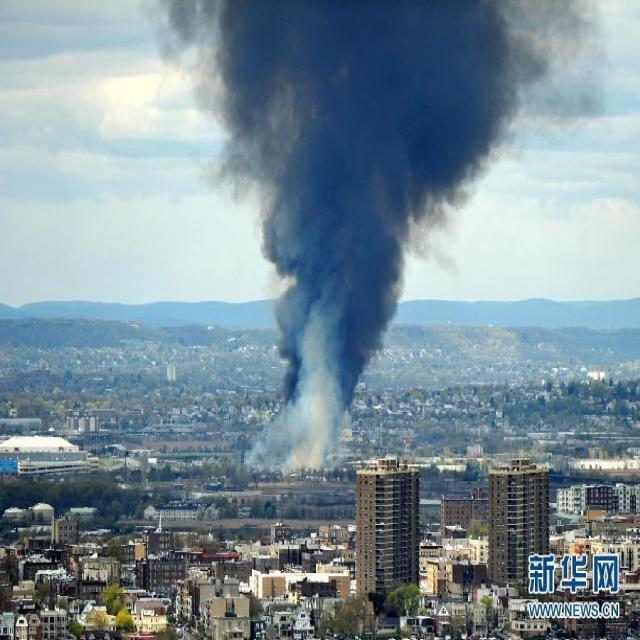Smoke: (134, 1, 616, 471)
